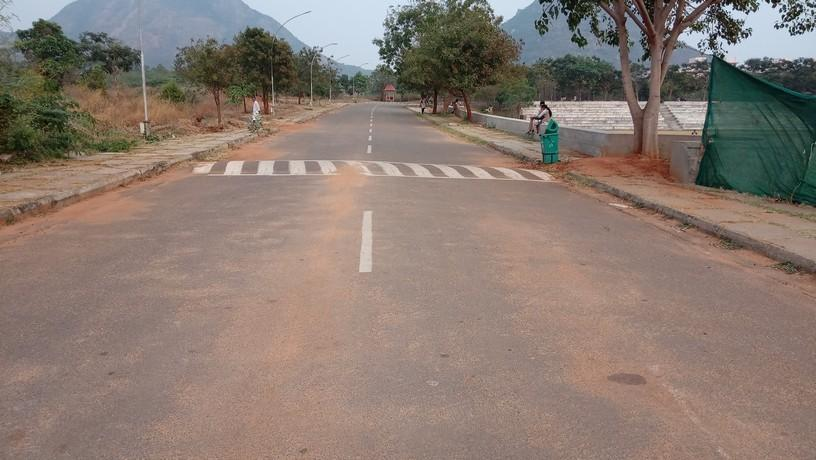speedbreaker: (196, 153, 550, 188)
